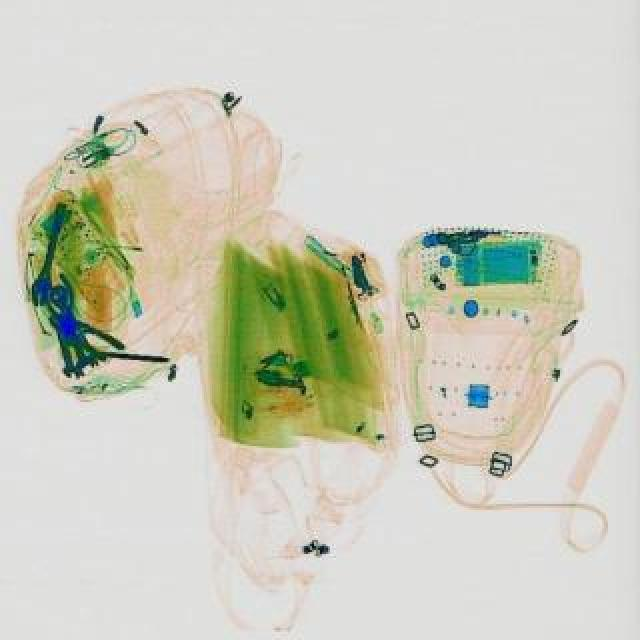scissors: (30, 202, 74, 308), (48, 310, 84, 378)
wrench: (58, 306, 126, 364), (42, 270, 92, 330)
